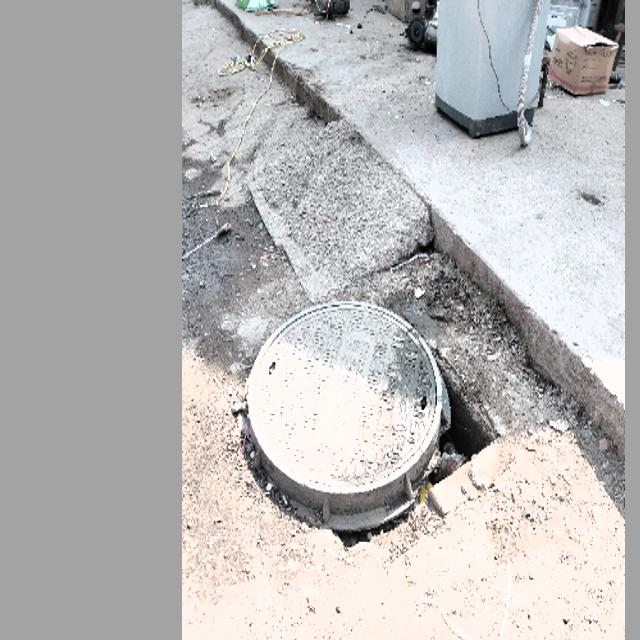circle: (235, 285, 480, 540)
